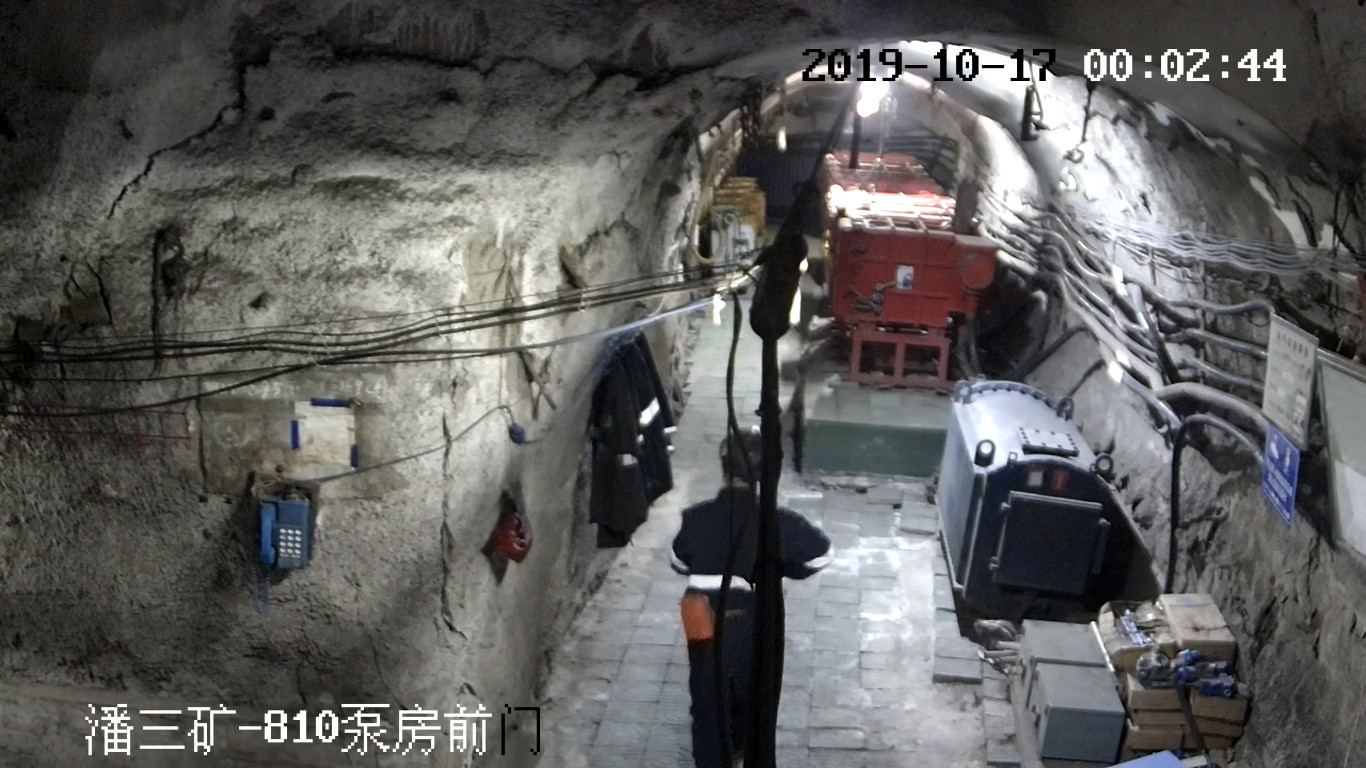helmet: (719, 421, 763, 482)
